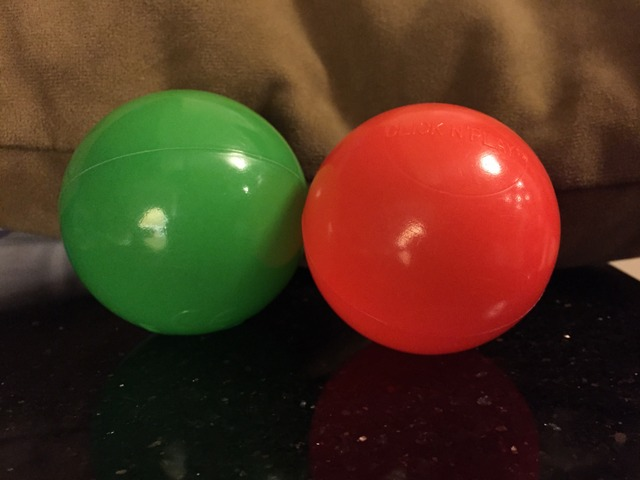Ball: (298, 100, 562, 357)
